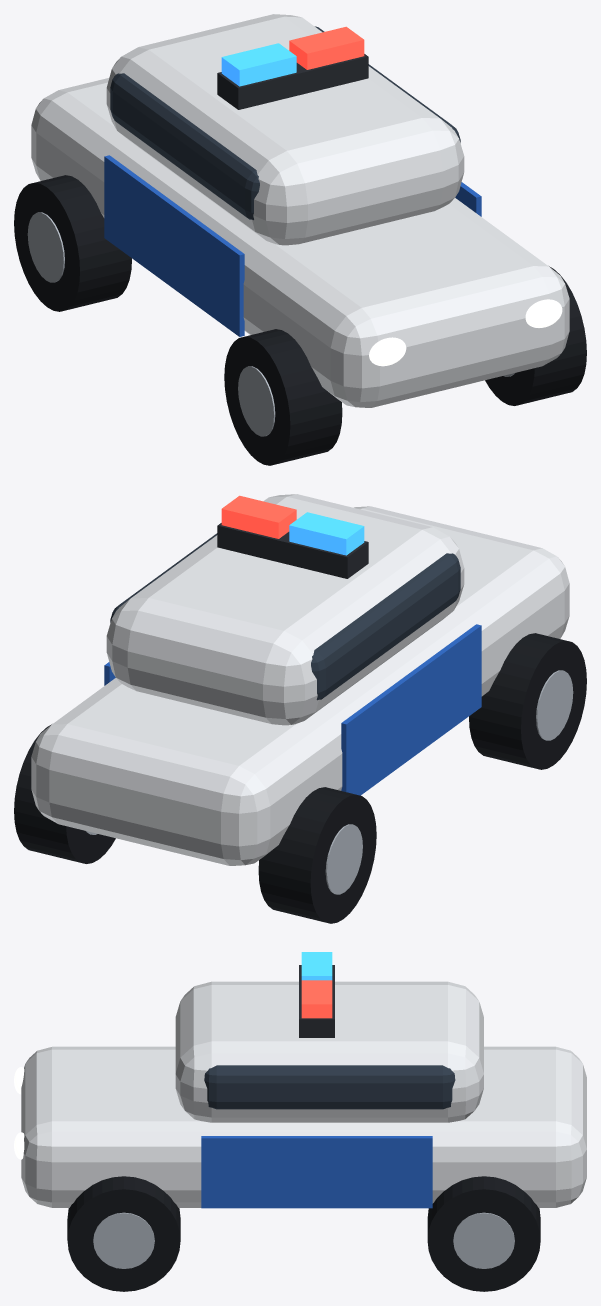
The model's file is patrulla.glb.
3 views of the same model, one above another, from view 1: azimuth 30°, elevation 25°; view 2: azimuth 150°, elevation 25°; view 3: azimuth 270°, elevation 25° (orthographic). The views are drawn at different scales.
Visible parts, largest first — view 1: Cube, Cube.003, Cube.001, Cylinder, Cylinder.004, Cube.004, Cylinder.002, Cube.005, sirena_azul, sirena_roja, Cylinder.001, Cylinder.005 (+2 smaller); view 2: Cube, Cube.003, Cube.001, Cylinder.004, Cylinder, Cube.004, Cylinder.006, Cube.005, sirena_azul, sirena_roja, Cylinder.005, Cylinder.001; view 3: Cube, Cube.003, Cube.002, Cube.004, Cylinder.002, Cylinder.006, Cylinder.007, Cylinder.003, sirena_roja, Cube.005, sirena_azul.
Part boxes in pixels (x1,y1,x2,y2): Cube: [31, 78, 569, 407]; Cube.003: [106, 14, 464, 245]; Cube.001: [104, 155, 244, 336]; Cylinder: [224, 329, 342, 465]; Cylinder.004: [14, 175, 131, 311]; Cube.004: [110, 26, 460, 220]; Cylinder.002: [485, 266, 586, 405]; Cube.005: [217, 54, 368, 109]; sirena_azul: [221, 43, 296, 86]; sirena_roja: [289, 26, 364, 69]; Cylinder.001: [238, 366, 275, 436]; Cylinder.005: [27, 212, 64, 282]; Cube: [31, 506, 569, 865]; Cube.003: [106, 494, 464, 725]; Cube.001: [341, 624, 481, 795]; Cylinder.004: [258, 787, 376, 923]; Cylinder: [469, 633, 586, 769]; Cube.004: [110, 533, 460, 700]; Cylinder.006: [14, 724, 115, 863]; Cube.005: [217, 523, 368, 578]; sirena_azul: [289, 512, 364, 555]; sirena_roja: [221, 495, 296, 538]; Cylinder.005: [325, 824, 362, 894]; Cylinder.001: [536, 670, 573, 740]; Cube: [21, 1046, 586, 1207]; Cube.003: [175, 981, 483, 1122]; Cube.002: [201, 1136, 432, 1208]; Cube.004: [204, 1065, 455, 1109]; Cylinder.002: [67, 1176, 180, 1291]; Cylinder.006: [427, 1176, 540, 1291]; Cylinder.007: [453, 1212, 514, 1268]; Cylinder.003: [93, 1212, 154, 1268]; sirena_roja: [301, 980, 332, 1018]; Cube.005: [299, 965, 334, 1037]; sirena_azul: [301, 952, 332, 980].
Bounding box in the file's own units: 1.15 × 1.08 × 2.23.
